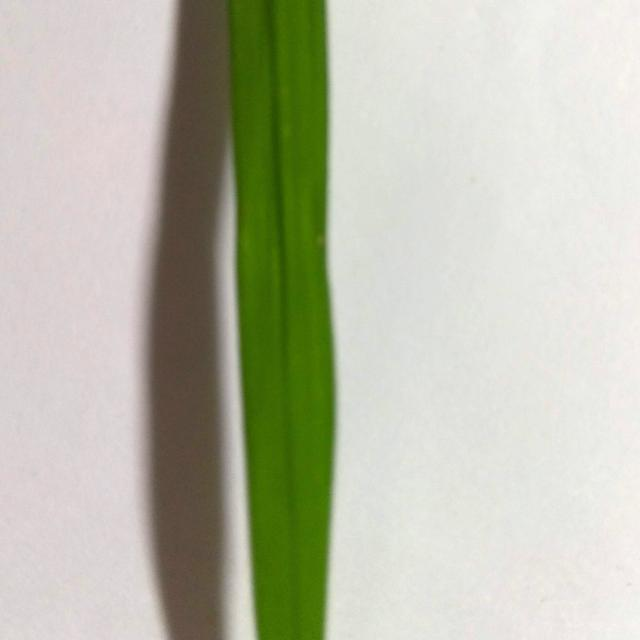Rice_Healthy: (228, 0, 335, 640)
